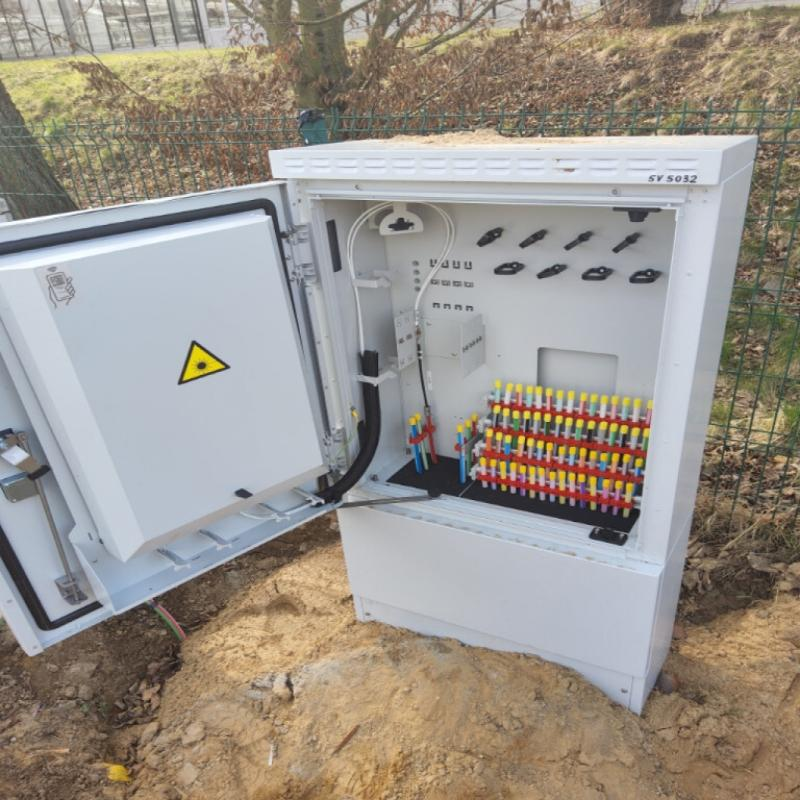NT-Gehause: (0, 137, 760, 714)
